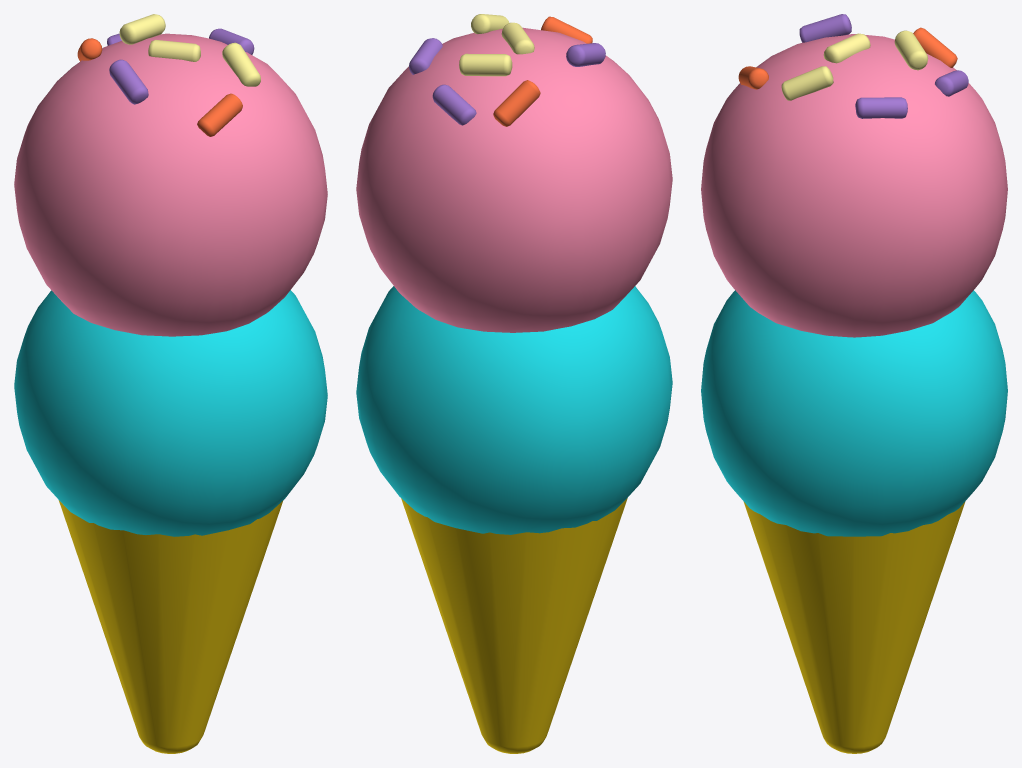
Rendered from City_19_Ice_Cream_2.glb.
3 views of the same model, side by side, from view 1: azimuth 30°, elevation 25°; view 2: azimuth 150°, elevation 25°; view 3: azimuth 270°, elevation 25° (orthographic).
Parts seen in each view (by area): view 1: City_19_Ice_Cream_2; view 2: City_19_Ice_Cream_2; view 3: City_19_Ice_Cream_2.
Boxes of the visible parts, x1=… form: City_19_Ice_Cream_2: x1=14, y1=14, x2=327, y2=753; City_19_Ice_Cream_2: x1=356, y1=14, x2=672, y2=753; City_19_Ice_Cream_2: x1=701, y1=14, x2=1007, y2=753.
Size of the model in its own units: 0.1966 by 0.4998 by 0.1966.
1 material, 1 textured.
